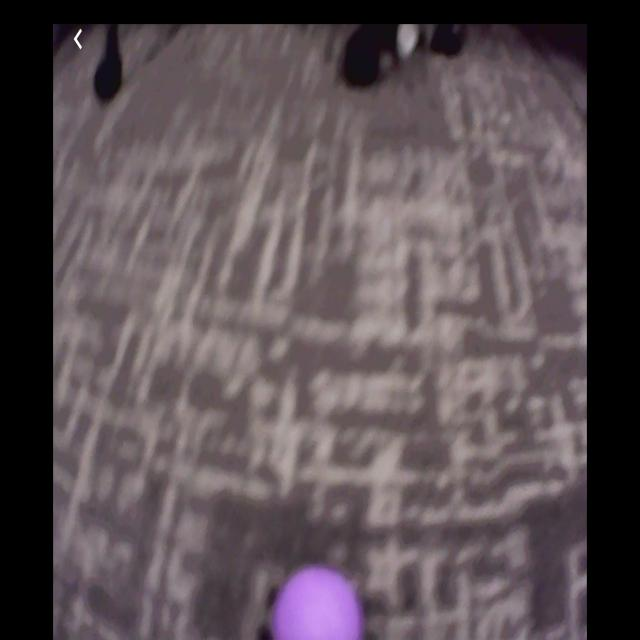ball: (270, 570, 365, 640)
